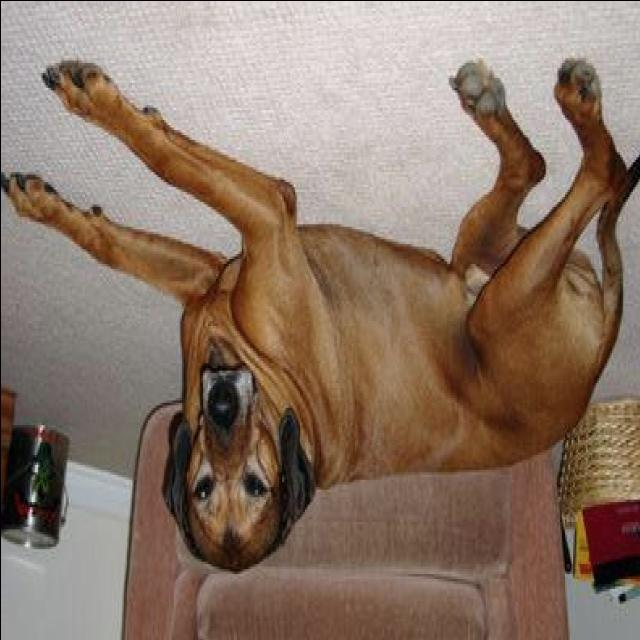rhodesian_ridgeback: (2, 50, 640, 584)
